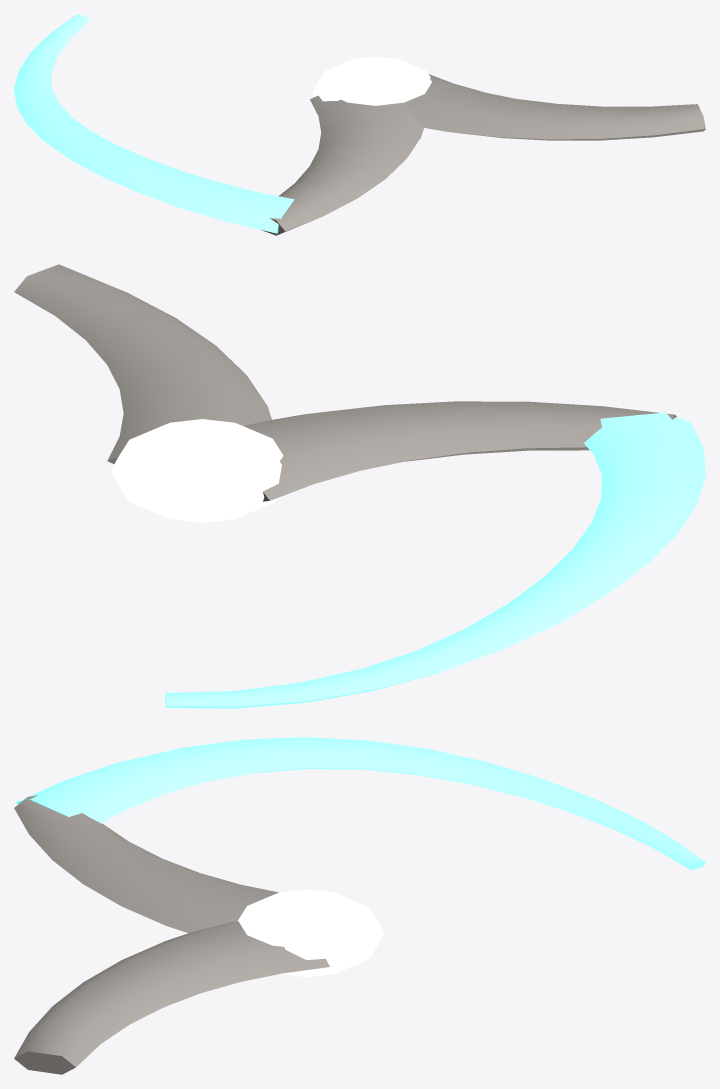
The model's file is vfx-mesh-library-boomerang-trail-8fc16f82__21874.glb.
The picture shows the model from 3 angles, top to bottom: view 1: azimuth 30°, elevation 25°; view 2: azimuth 150°, elevation 25°; view 3: azimuth 270°, elevation 25°; orthographic projection. The views are drawn at different scales.
Visible parts, largest first — view 1: boomerang-trail; view 2: boomerang-trail; view 3: boomerang-trail.
Boxes of the visible parts, x1,y1,x2,y2 form: boomerang-trail: (14, 14, 705, 235); boomerang-trail: (14, 264, 705, 708); boomerang-trail: (14, 737, 705, 1074).
Size of the model in its own units: 0.8253 by 0.0714 by 0.76.
